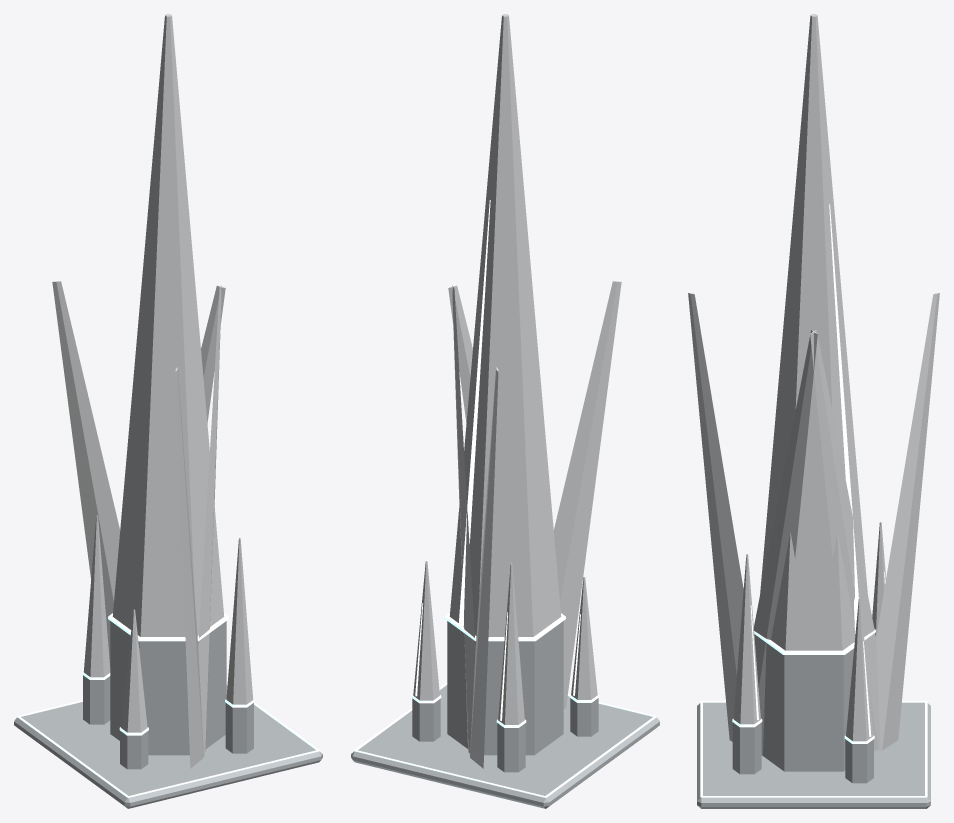
The model's file is zone_high_4.glb.
The picture shows the model from 3 angles, left to right: view 1: azimuth 30°, elevation 25°; view 2: azimuth 150°, elevation 25°; view 3: azimuth 270°, elevation 25°; orthographic projection. The views are drawn at different scales.
Visible parts, largest first — view 1: zone_high_4, detail; view 2: zone_high_4, detail; view 3: zone_high_4, detail.
Boxes of the visible parts, x1,y1,x2,y2 form: zone_high_4: (14,14,322,808); detail: (17,682,319,797); zone_high_4: (351,14,659,808); detail: (354,682,656,797); zone_high_4: (688,14,939,808); detail: (700,701,927,797).
Bounding box in the file's own units: 27.5 × 97.16 × 29.59.
